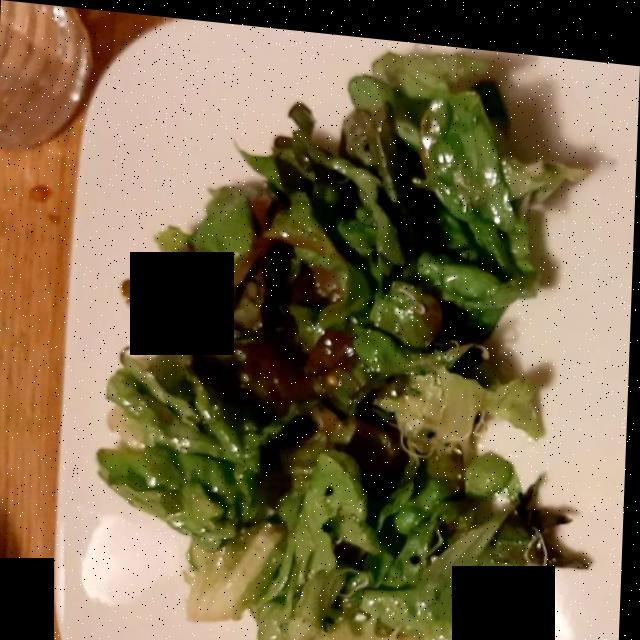salad: (112, 56, 569, 640)
